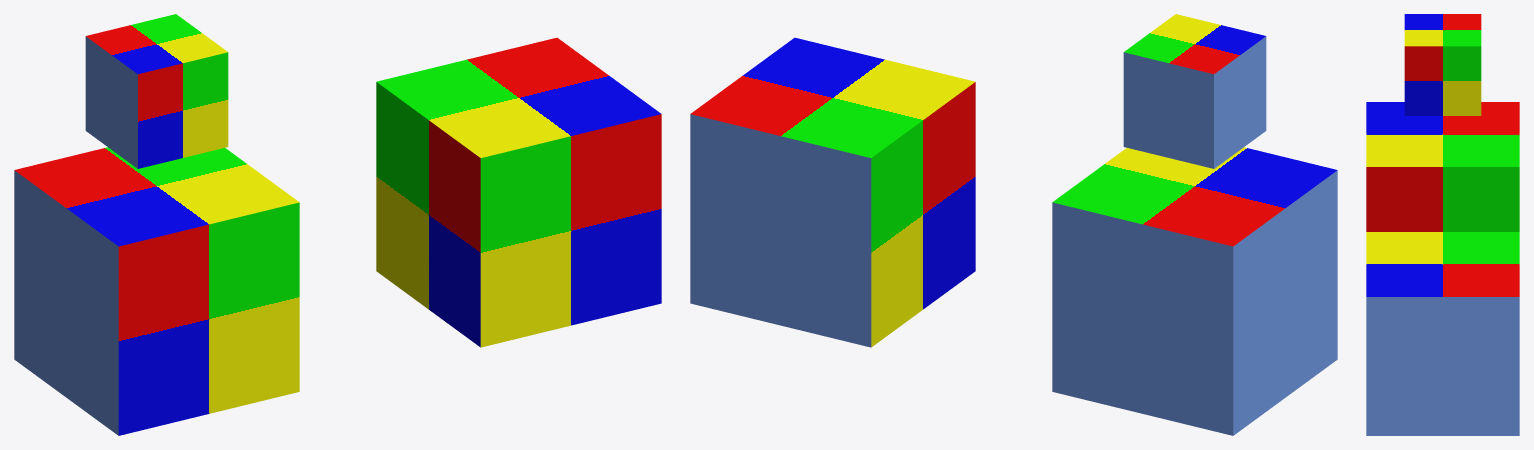
The picture shows the model from 3 angles, left to right: view 1: azimuth 30°, elevation 25°; view 2: azimuth 150°, elevation 25°; view 3: azimuth 270°, elevation 25°; orthographic projection. The views are drawn at different scales.
Parts seen in each view (by area): view 1: Mirrored, Cube, Child; view 2: Mirrored, Cube, Child; view 3: Mirrored, Cube, Child.
Boxes of the visible parts, <box> form: Mirrored: <box>376,37,661,347</box>; Cube: <box>14,147,299,435</box>; Child: <box>85,14,228,168</box>; Mirrored: <box>690,37,975,347</box>; Cube: <box>1052,147,1337,435</box>; Child: <box>1123,14,1266,168</box>; Mirrored: <box>1366,232,1519,435</box>; Cube: <box>1366,102,1519,231</box>; Child: <box>1404,14,1481,115</box>.
Size of the model in its own units: 3 by 1.75 by 1.
2 materials, 1 textured.
